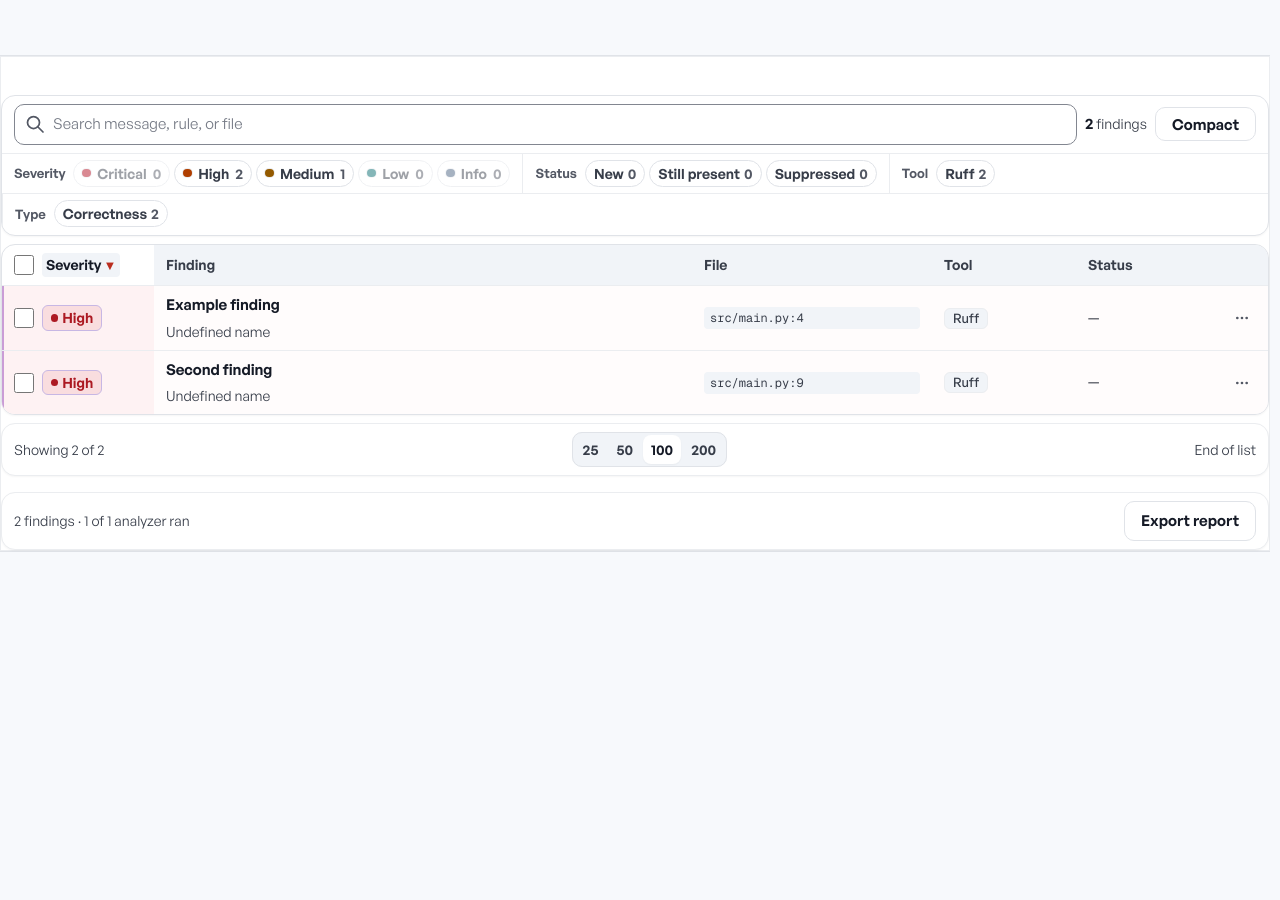
ReportView split pane › clicking a row docks the source pane with the finding code beside the list
Click the row "High Example finding Undefined name src/main.py:4 Ruff —" at (635, 318), box left=2, top=286, right=1268, bottom=350
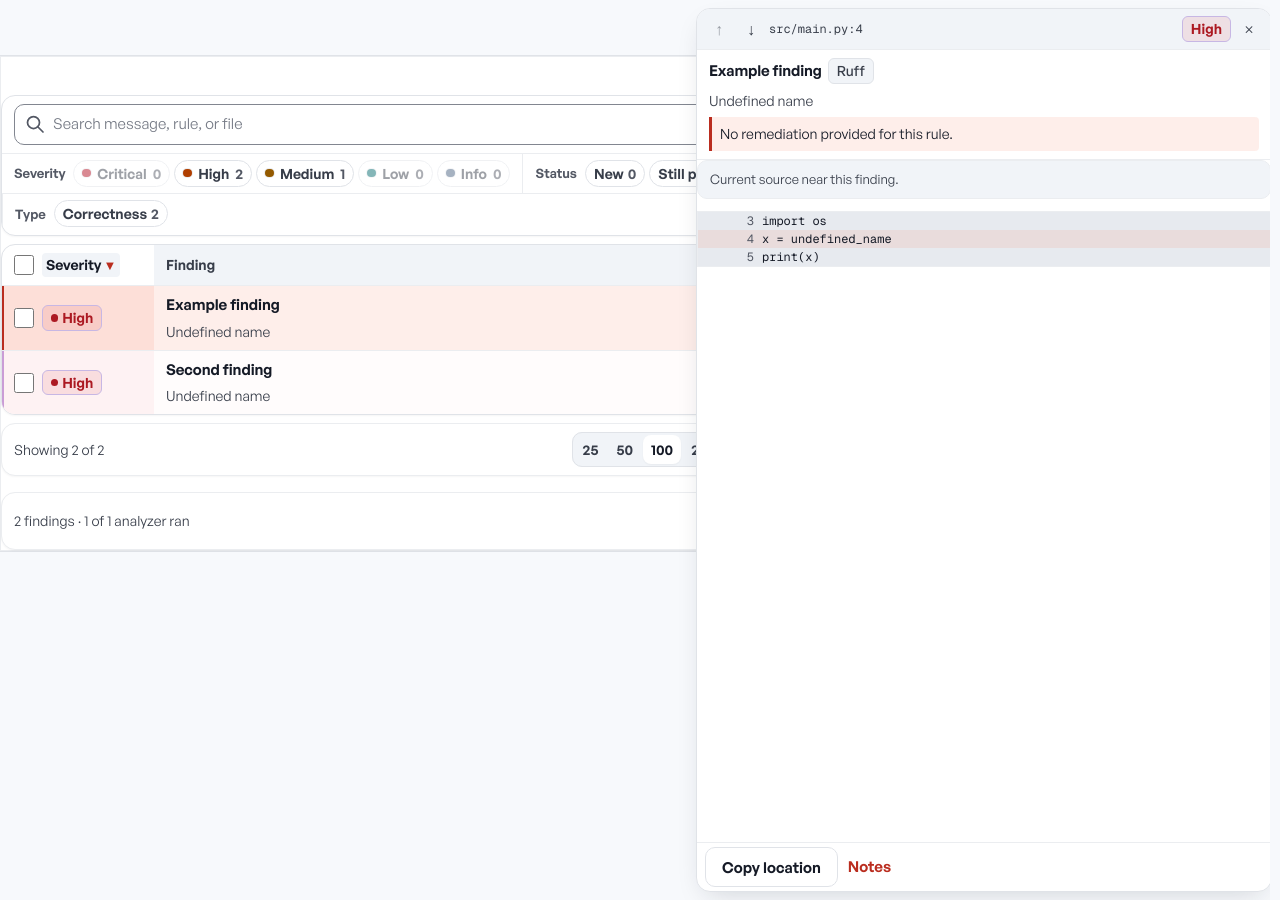
Check: the element with class "source-pane" shows "src/main.py:4", box left=769, top=21, right=863, bottom=37
Check: the number of elements with class "highlight" is 1, box left=698, top=230, right=1270, bottom=248
Check: the element with class "source-pane" shows "Undefined name", box left=709, top=92, right=813, bottom=109
